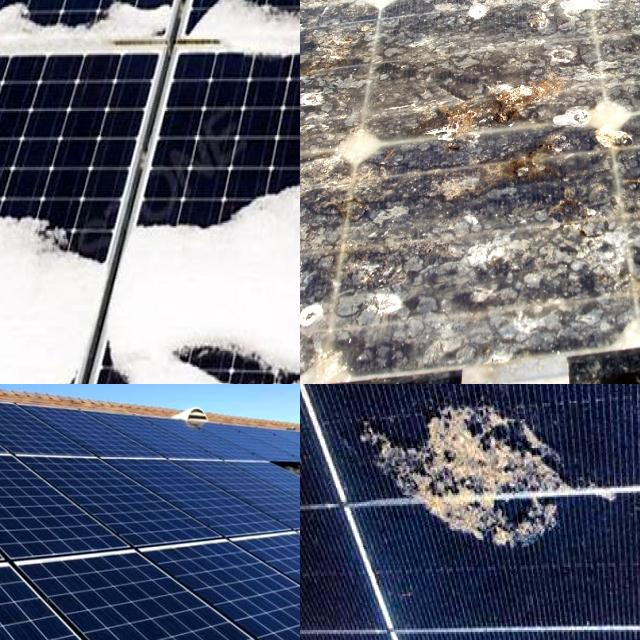bird: (336, 384, 591, 579), (426, 152, 634, 230), (300, 267, 449, 366), (300, 0, 376, 170), (470, 0, 640, 67), (414, 55, 600, 110)
crack: (0, 540, 300, 640), (18, 434, 223, 574), (102, 437, 283, 555), (0, 559, 242, 640), (0, 445, 127, 595), (142, 524, 300, 640), (0, 435, 128, 570), (17, 387, 176, 477), (187, 448, 300, 541), (0, 384, 95, 487), (0, 384, 104, 474)
panel: (123, 174, 300, 246), (180, 292, 300, 384), (8, 196, 108, 306), (0, 0, 163, 60), (181, 0, 300, 64), (81, 304, 145, 384), (0, 58, 39, 165), (0, 187, 66, 249), (0, 144, 55, 216), (0, 259, 38, 346), (0, 337, 53, 384), (0, 0, 42, 43), (0, 337, 35, 384), (0, 0, 32, 33)
